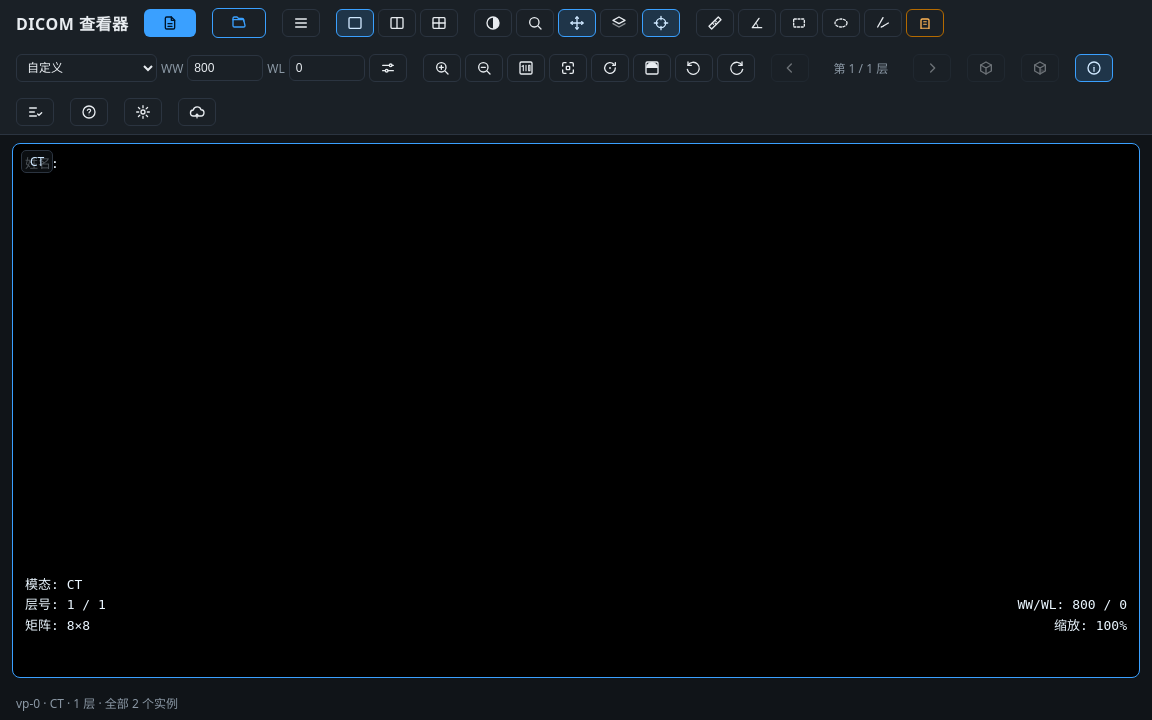
Scenario: M9 移动端 App 集成 › 响应式布局（FR-14.2） › 窄屏：按钮唤出抽屉 → 选择序列后抽屉关闭且序列加载到激活视口
Click the button named "序列列表（抽屉）".
click(301, 23)  # box x1=282 y1=9 x2=320 y2=37
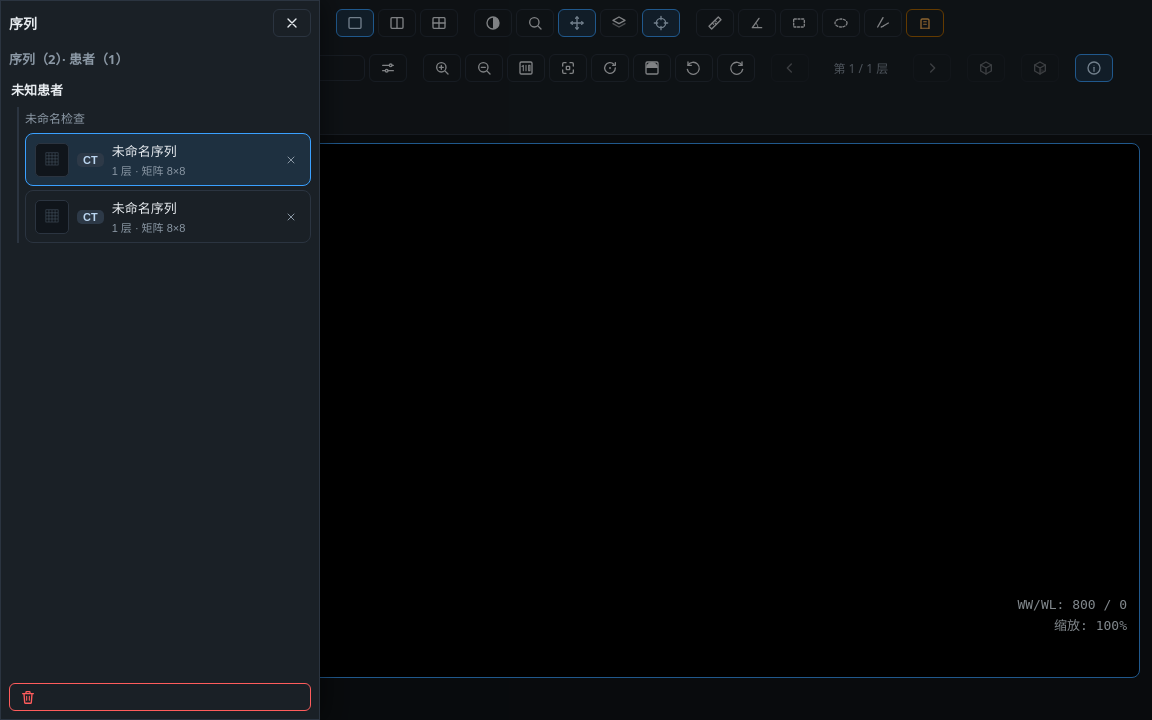
Expected: the element with class "series-drawer" is shown, x1=0 y1=0 x2=320 y2=719
Expected: the element with class "drawer-backdrop" is shown
Expected: the number of buttons with class "series-item" is 2
Click the button with class "series-item" showing "▦ CT 未命名序列 1 层 · 矩阵 8×8".
click(168, 216)  # box x1=25 y1=190 x2=311 y2=243
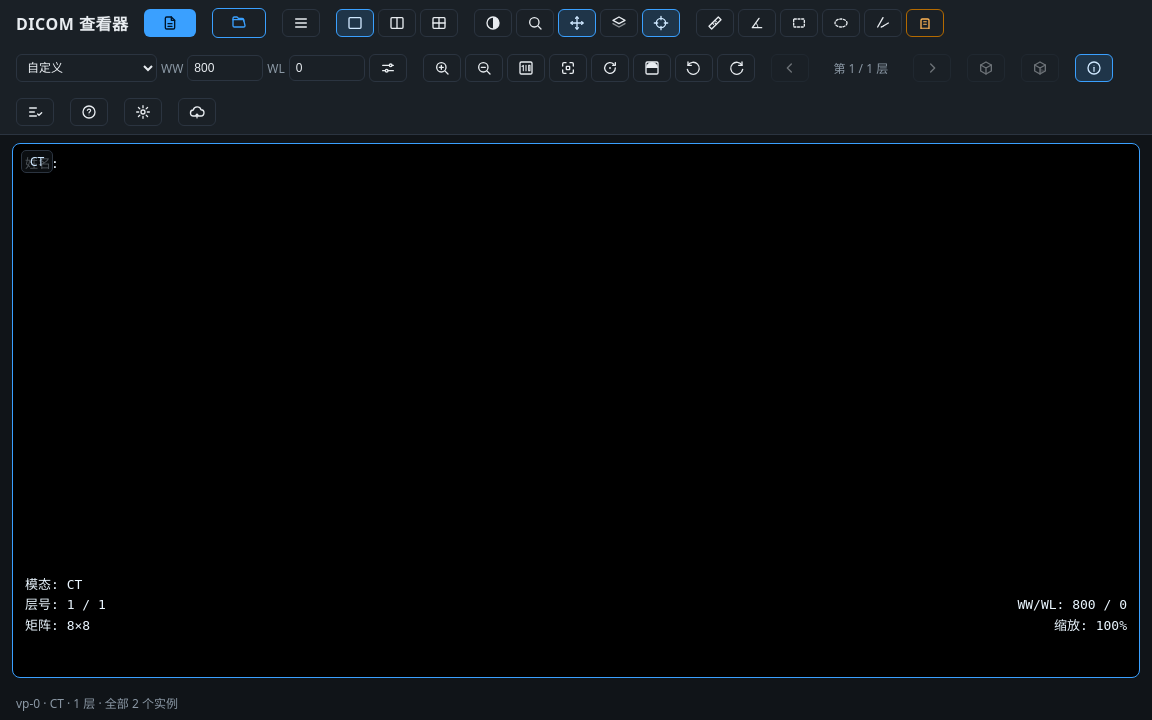
Expected: the element with class "series-drawer" is gone
// 再次唤出：已加载序列卡片带激活态
Click the button named "序列列表（抽屉）".
click(301, 23)  # box x1=282 y1=9 x2=320 y2=37
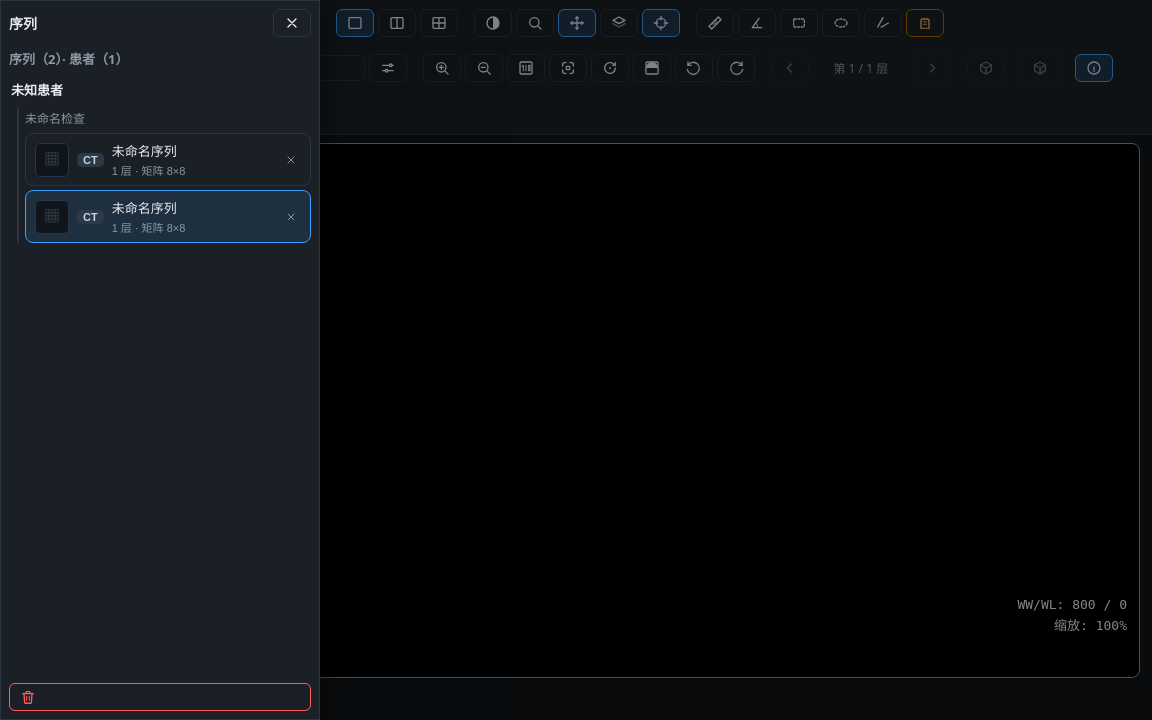
Expected: the number of buttons with class "series-item--active" is 1, x1=25 y1=190 x2=311 y2=243
Expected: the button with class "series-item--active" shows "CT", x1=25 y1=190 x2=311 y2=243
